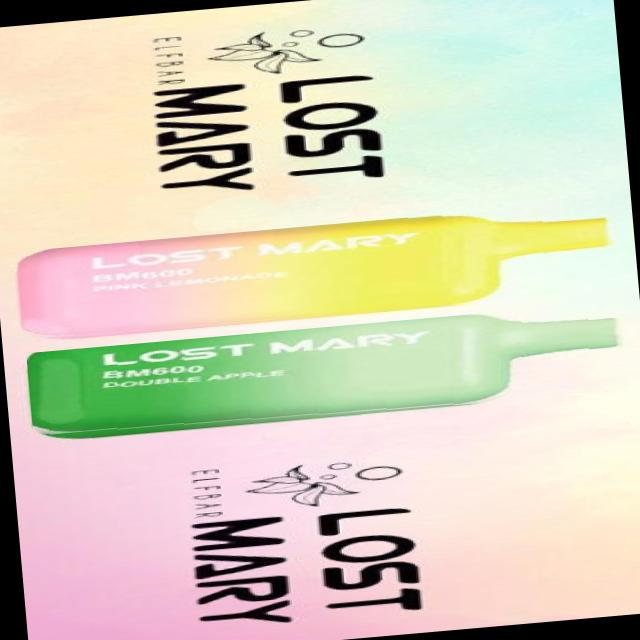Hazard: (14, 199, 616, 343), (25, 301, 630, 444)
